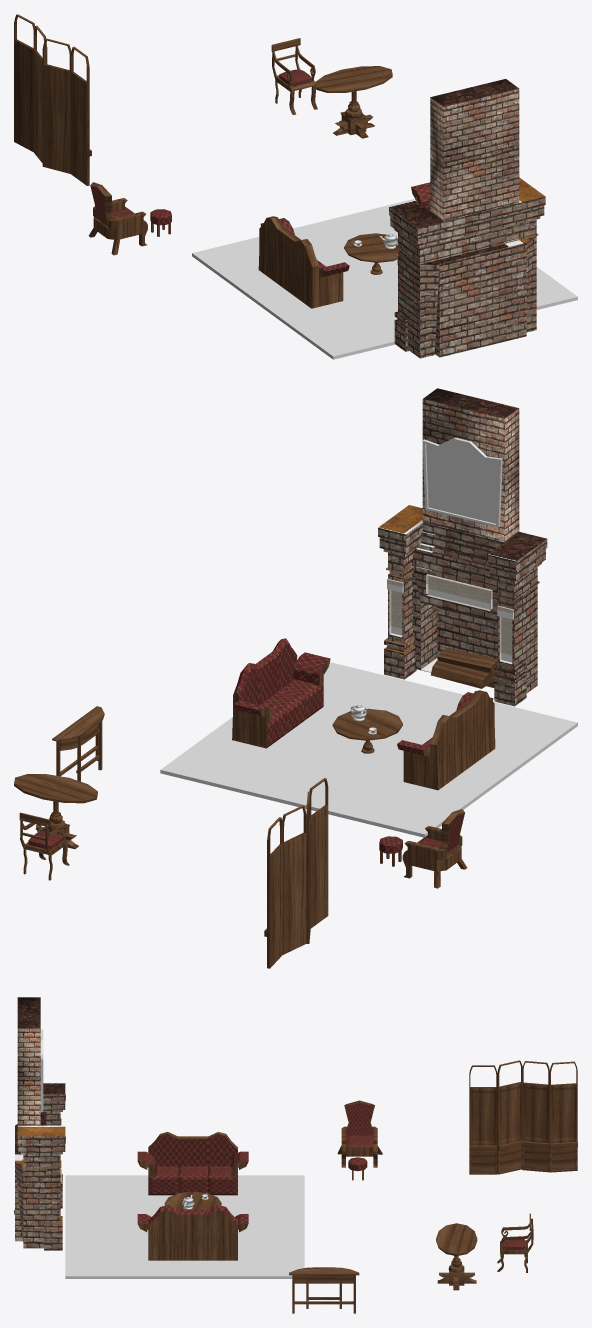
The model's file is SalaEstar.fbx.
3 views of the same model, one above another, from view 1: azimuth 30°, elevation 25°; view 2: azimuth 150°, elevation 25°; view 3: azimuth 270°, elevation 25° (orthographic). The views are drawn at different scales.
Parts seen in each view (by area): view 1: Lareira, Tapete, Divisor, Sofa.001, Mesa.001, Poltrona, cadeira.001, Mesa.002; view 2: Lareira, Tapete, Divisor, Sofa, Sofa.001, EspelhoVidro, Poltrona, Mesa.001, CriadoMudo2, Logs, Mesa.002, cadeira.001 (+1 smaller); view 3: Tapete, Divisor, Lareira, Sofa.001, Sofa, Poltrona, Mesa.001, CriadoMudo2, cadeira.001, Mesa.002.
Boxes of the visible parts, left/top/right/bottom form: Lareira: left=389, top=79, right=545, bottom=358; Tapete: left=192, top=199, right=577, bottom=359; Divisor: left=14, top=14, right=91, bottom=185; Sofa.001: left=258, top=216, right=349, bottom=308; Mesa.001: left=315, top=66, right=392, bottom=138; Poltrona: left=88, top=182, right=147, bottom=255; cadeira.001: left=271, top=38, right=317, bottom=114; Mesa.002: left=344, top=233, right=399, bottom=274; Lareira: left=378, top=388, right=547, bottom=706; Tapete: left=160, top=662, right=577, bottom=837; Divisor: left=264, top=778, right=328, bottom=968; Sofa: left=232, top=638, right=330, bottom=748; Sofa.001: left=397, top=690, right=495, bottom=790; EspelhoVidro: left=426, top=441, right=498, bottom=523; Poltrona: left=402, top=809, right=467, bottom=888; Mesa.001: left=14, top=774, right=97, bottom=848; CriadoMudo2: left=52, top=706, right=104, bottom=781; Logs: left=431, top=648, right=497, bottom=688; Mesa.002: left=332, top=708, right=402, bottom=753; cadeira.001: left=19, top=812, right=69, bottom=880; Tapete: left=65, top=1175, right=304, bottom=1278; Divisor: left=469, top=1060, right=577, bottom=1174; Lareira: left=15, top=997, right=65, bottom=1250; Sofa.001: left=137, top=1132, right=248, bottom=1195; Sofa: left=137, top=1205, right=248, bottom=1260; Poltrona: left=337, top=1100, right=382, bottom=1167; Mesa.001: left=436, top=1223, right=477, bottom=1290; CriadoMudo2: left=289, top=1267, right=359, bottom=1313; cadeira.001: left=497, top=1213, right=533, bottom=1272; Mesa.002: left=164, top=1191, right=221, bottom=1209.
Size of the model in its own units: 9.93 by 6.62 by 15.25.
